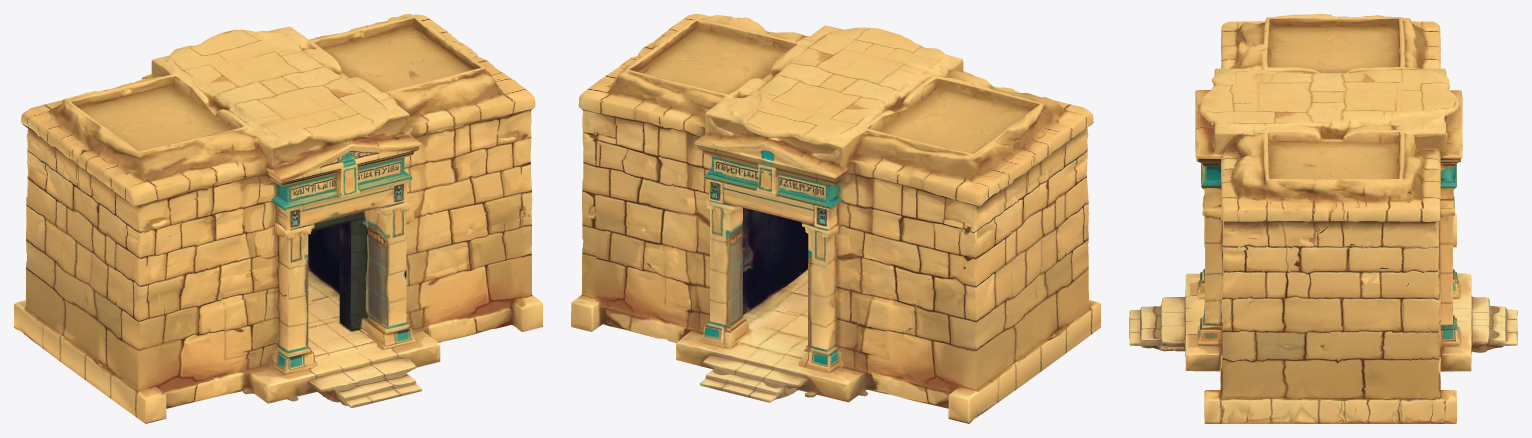
Rendered from tomb.glb.
3 views of the same model, side by side, from view 1: azimuth 30°, elevation 25°; view 2: azimuth 150°, elevation 25°; view 3: azimuth 270°, elevation 25° (orthographic). The views are drawn at different scales.
Visible parts, largest first — view 1: 0; view 2: 0; view 3: 0.
Part boxes in pixels (x1,y1,x2,y2): 0: [14, 14, 542, 423]; 0: [571, 14, 1100, 423]; 0: [1129, 14, 1517, 423].
Size of the model in its own units: 1.91 by 1.11 by 1.66.
Materials: 1 (1 with a texture image).
